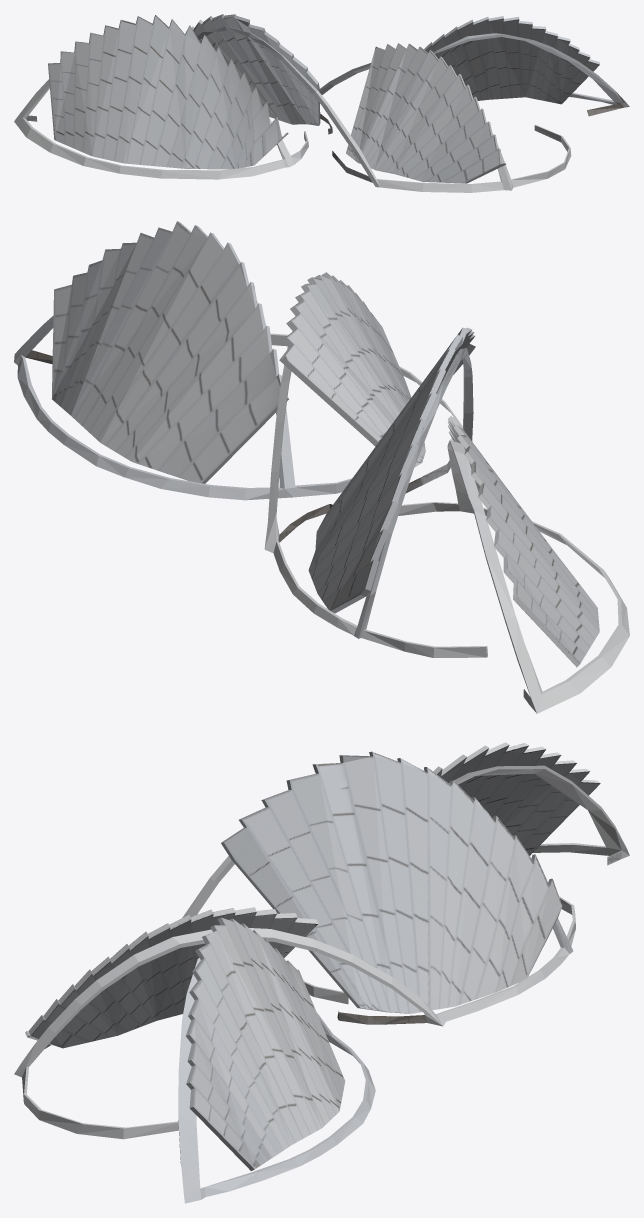
The model's file is 119_EDITS__FFFF.glb.
3 renders of one model, top to bottom at view 1: azimuth 30°, elevation 25°; view 2: azimuth 150°, elevation 25°; view 3: azimuth 270°, elevation 25°, orthographic. The views are drawn at different scales.
Parts seen in each view (by area): view 1: Plane; view 2: Plane; view 3: Plane.
Boxes of the visible parts, bbox=[...] form: Plane: bbox=[14, 14, 629, 192]; Plane: bbox=[14, 221, 629, 713]; Plane: bbox=[14, 742, 629, 1203].
Size of the model in its own units: 93.37 by 25.38 by 67.3.
1 material, 1 textured.
